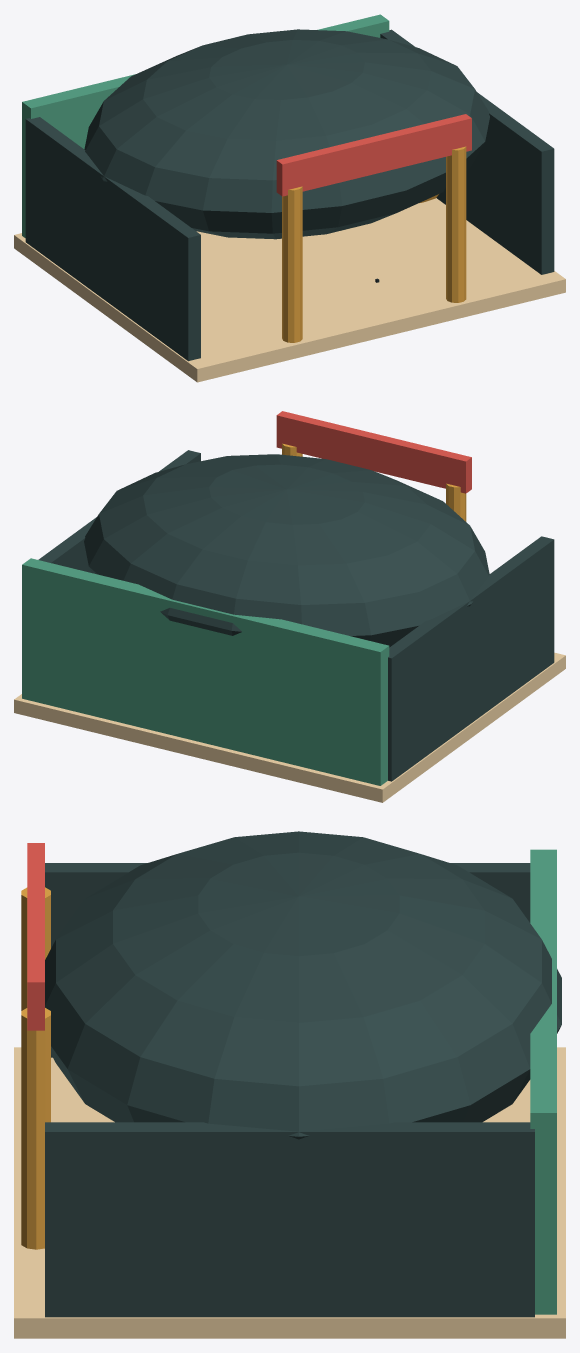
File: ParkParkAquariumTunnel.obj
3 renders of one model, top to bottom at view 1: azimuth 30°, elevation 25°; view 2: azimuth 150°, elevation 25°; view 3: azimuth 270°, elevation 25°, orthographic. The views are drawn at different scales.
Parts seen in each view (by area): view 1: ParkParkAquariumTunnel; view 2: ParkParkAquariumTunnel; view 3: ParkParkAquariumTunnel.
Part boxes in pixels (x1=…): ParkParkAquariumTunnel: x1=14, y1=14, x2=565, y2=382; ParkParkAquariumTunnel: x1=14, y1=411, x2=565, y2=802; ParkParkAquariumTunnel: x1=14, y1=831, x2=565, y2=1338.
Bounding box in the file's own units: 14.4 × 7.6 × 12.4.
